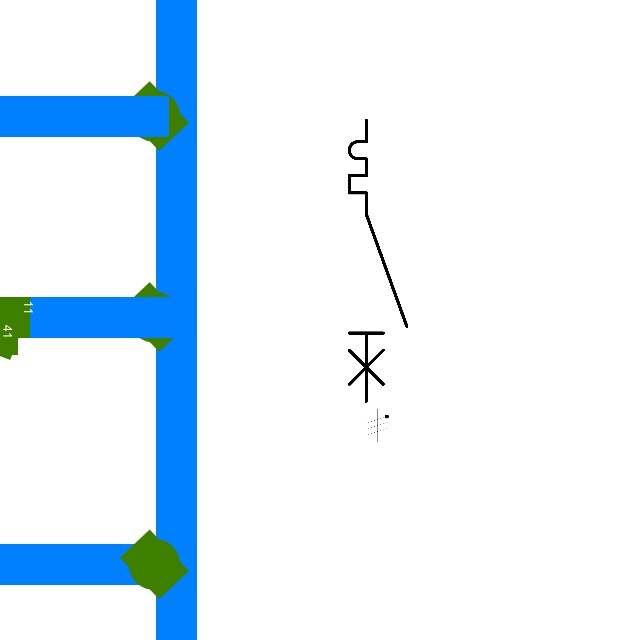interruptor_termomagnetico: (342, 113, 414, 408)
